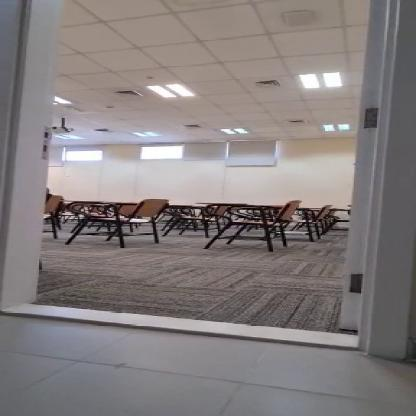open: (0, 0, 415, 375)
